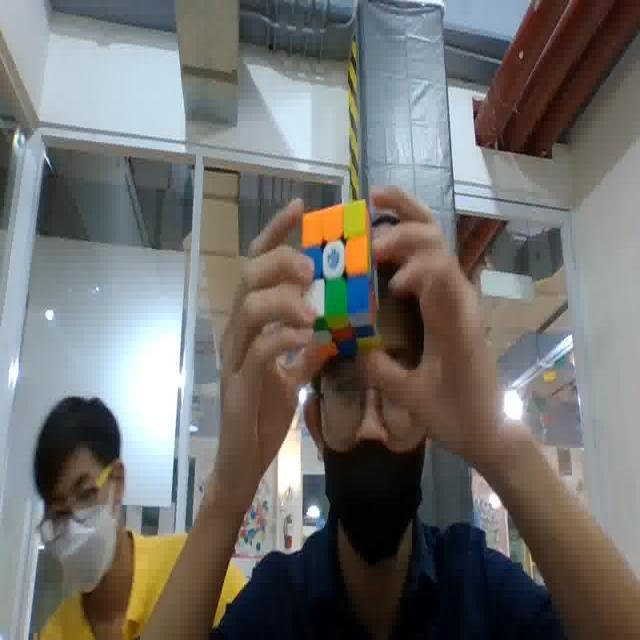Rub: (304, 194, 384, 356)
